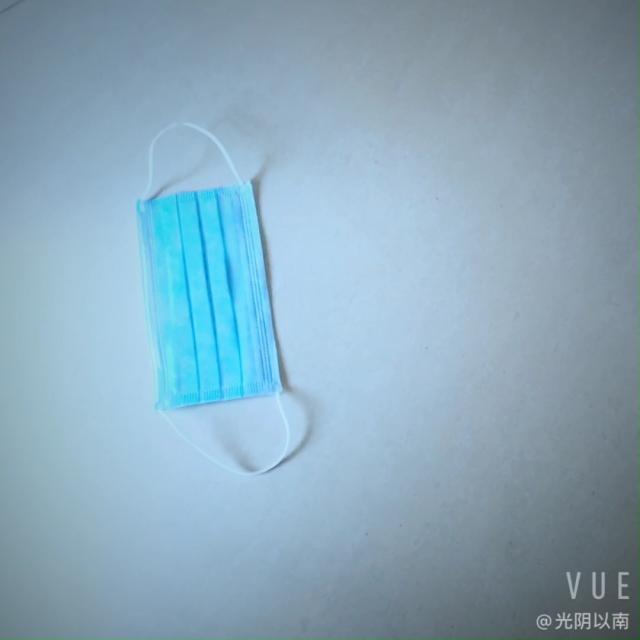non-organic waste: (143, 156, 290, 412)
